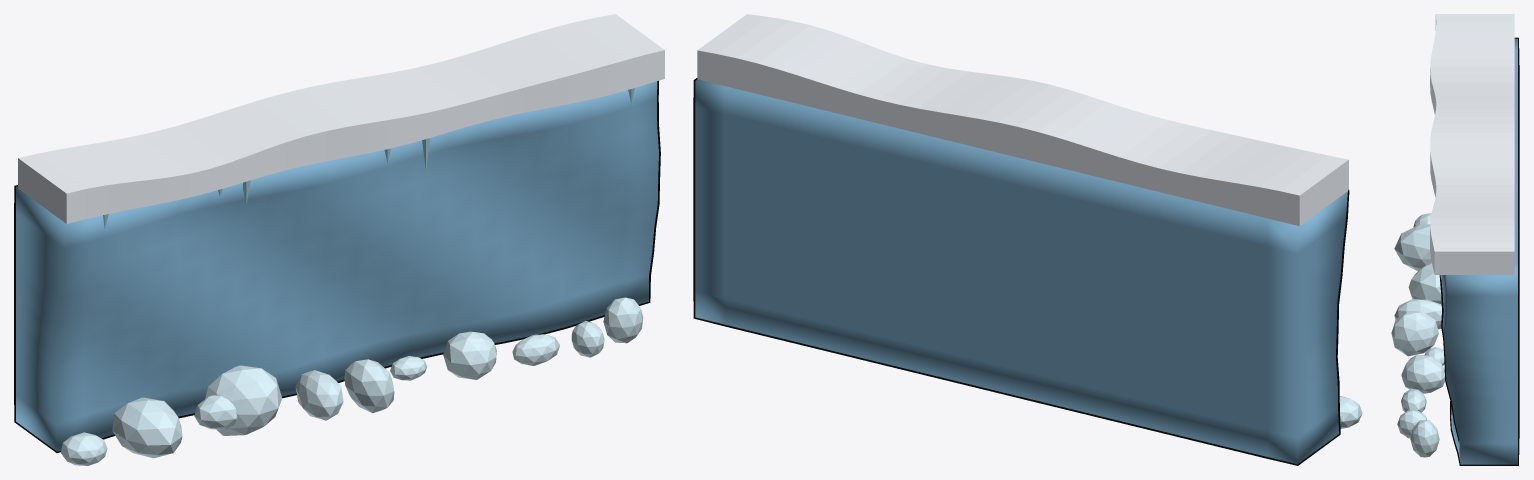
File: Tundra_ShelfWall.glb
The picture shows the model from 3 angles, left to right: view 1: azimuth 30°, elevation 25°; view 2: azimuth 150°, elevation 25°; view 3: azimuth 270°, elevation 25°; orthographic projection. The views are drawn at different scales.
Parts seen in each view (by area): view 1: Tundra_ShelfWall_Face, Tundra_ShelfWall_Cap, Tundra_ShelfWall_Talus, Tundra_ShelfWall_OutlineHull; view 2: Tundra_ShelfWall_Face, Tundra_ShelfWall_Cap, Tundra_ShelfWall_OutlineHull; view 3: Tundra_ShelfWall_Cap, Tundra_ShelfWall_Face, Tundra_ShelfWall_Talus, Tundra_ShelfWall_OutlineHull.
Part boxes in pixels (x1=…): Tundra_ShelfWall_Face: x1=16, y1=81, x2=658, y2=451; Tundra_ShelfWall_Cap: x1=18, y1=14, x2=664, y2=223; Tundra_ShelfWall_Talus: x1=61, y1=297, x2=643, y2=465; Tundra_ShelfWall_OutlineHull: x1=14, y1=80, x2=660, y2=452; Tundra_ShelfWall_Face: x1=695, y1=79, x2=1347, y2=464; Tundra_ShelfWall_Cap: x1=697, y1=14, x2=1348, y2=226; Tundra_ShelfWall_OutlineHull: x1=693, y1=78, x2=1349, y2=465; Tundra_ShelfWall_Cap: x1=1430, y1=14, x2=1514, y2=274; Tundra_ShelfWall_Face: x1=1441, y1=38, x2=1517, y2=464; Tundra_ShelfWall_Talus: x1=1391, y1=213, x2=1444, y2=457; Tundra_ShelfWall_OutlineHull: x1=1439, y1=37, x2=1519, y2=465.
Size of the model in its own units: 8.11 by 3.64 by 1.84.
